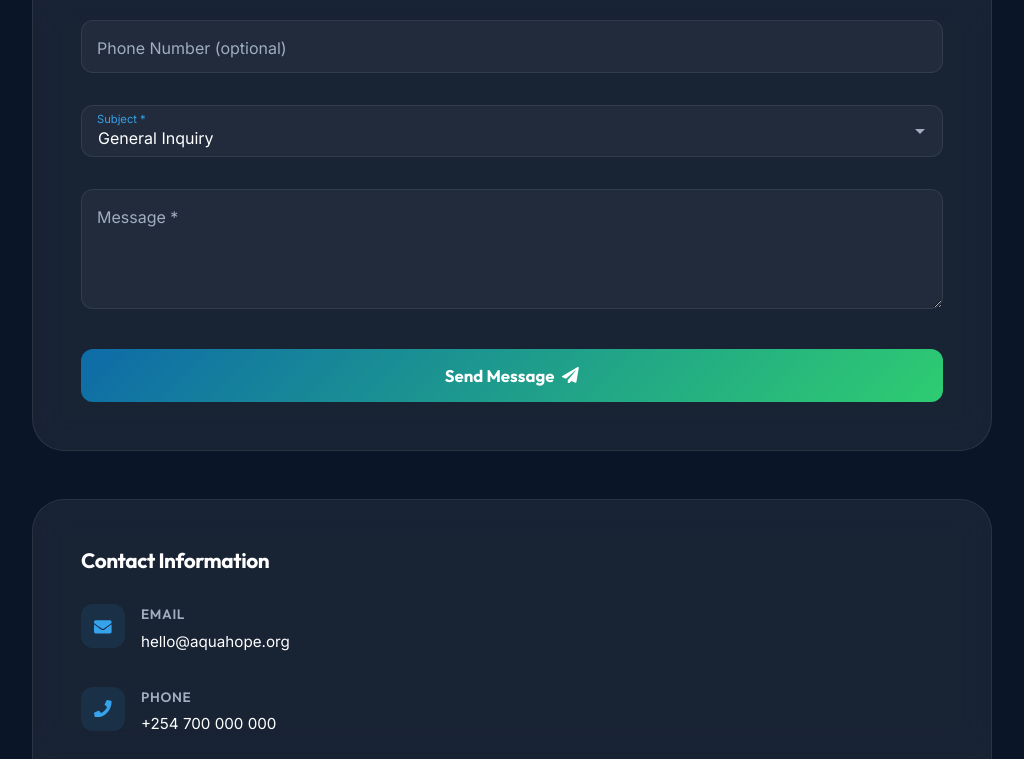
Test: Contact Page - Form Validation & Interactions › validates required fields and shows errors for empty input
(page scrolled)
// Attempt submitting without filling form
Click the button "Send Message". click: [512, 375]
box: [81, 348, 943, 402]
(page scrolled)
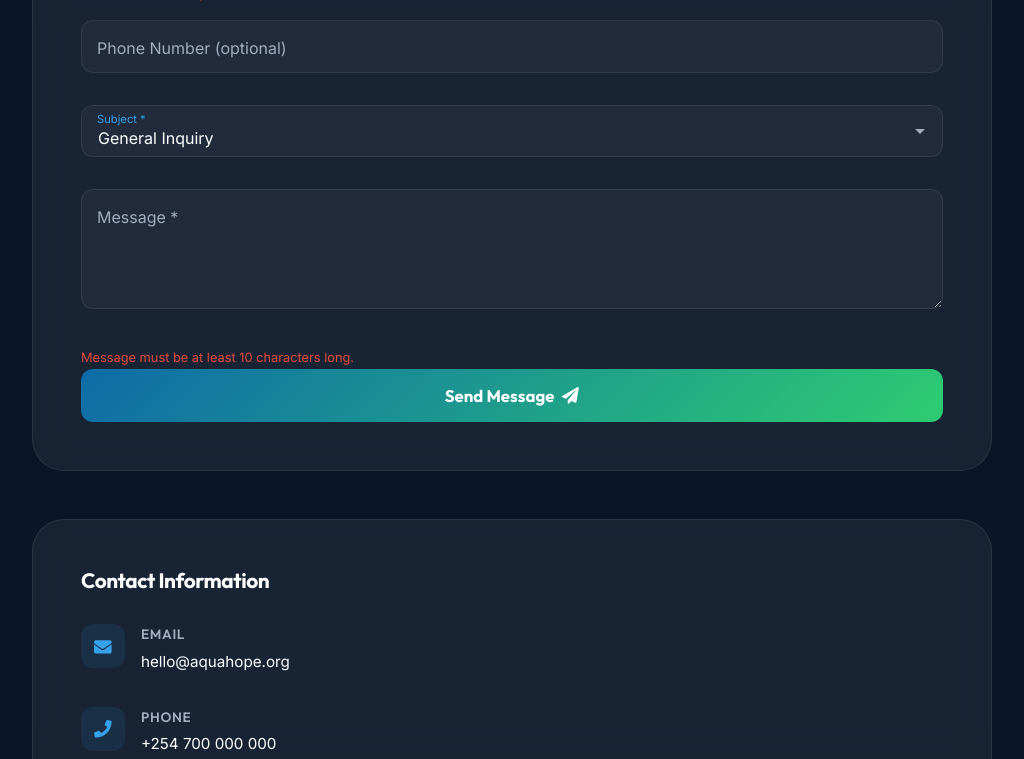
Check: the text "Message must be at least 10 characters long." is shown, box [81, 350, 354, 365]
